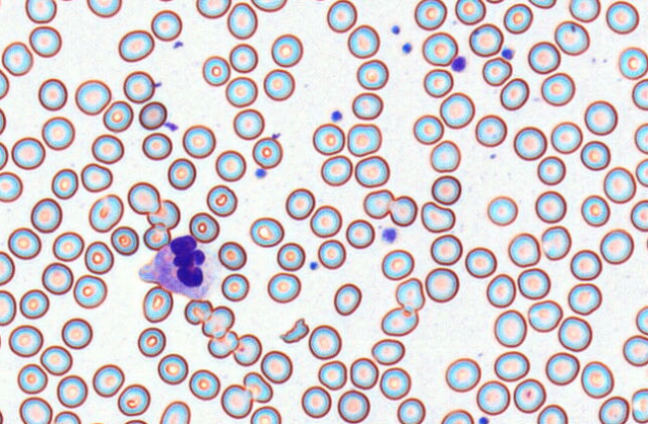GRAN: (136, 232, 216, 301)
PLT: (379, 227, 399, 243), (450, 57, 465, 74), (401, 41, 414, 55), (500, 48, 514, 61), (390, 23, 403, 35), (330, 111, 343, 121), (255, 168, 266, 179), (309, 262, 321, 272)
RBC: (88, 193, 124, 232), (74, 79, 111, 115), (439, 91, 475, 128), (421, 31, 458, 66), (444, 357, 481, 392), (493, 309, 527, 347), (580, 360, 614, 398), (554, 20, 590, 55), (557, 315, 592, 351), (599, 228, 634, 264), (468, 22, 503, 57), (424, 267, 459, 302), (584, 99, 618, 135), (117, 29, 154, 62), (603, 166, 636, 203), (346, 122, 381, 156), (476, 380, 510, 415), (540, 72, 575, 106), (142, 285, 173, 323), (380, 305, 418, 336), (73, 274, 107, 308), (513, 126, 547, 160), (41, 116, 75, 150), (182, 124, 216, 158), (545, 351, 579, 385), (605, 0, 639, 34), (220, 383, 253, 418), (308, 324, 341, 359), (8, 324, 43, 357), (513, 378, 546, 413), (527, 299, 562, 332), (567, 282, 602, 315), (507, 232, 540, 267), (30, 197, 62, 233), (354, 155, 390, 187), (226, 2, 257, 39), (11, 136, 45, 169), (337, 389, 370, 423), (527, 40, 560, 74), (270, 33, 303, 67), (347, 24, 380, 58), (1, 41, 33, 76), (493, 350, 529, 381), (201, 305, 234, 338), (127, 181, 160, 214), (309, 204, 342, 237), (117, 383, 150, 416), (122, 70, 155, 103), (312, 122, 345, 155), (474, 114, 507, 147), (92, 363, 124, 397), (7, 227, 41, 259), (56, 374, 88, 408), (379, 366, 411, 400), (249, 216, 284, 247), (420, 201, 455, 232), (540, 225, 571, 260), (147, 198, 180, 230), (381, 248, 414, 280), (41, 261, 73, 294), (260, 350, 292, 383), (28, 25, 61, 57), (517, 267, 550, 299), (263, 68, 295, 101), (550, 121, 582, 154), (429, 233, 462, 265), (464, 246, 497, 278), (534, 190, 566, 223), (267, 272, 301, 303), (485, 273, 516, 307), (188, 368, 220, 400), (150, 9, 182, 41), (320, 154, 352, 186), (232, 108, 264, 140), (39, 344, 72, 375), (251, 136, 282, 169), (206, 184, 237, 217), (300, 385, 331, 418), (91, 133, 124, 164), (429, 139, 460, 172), (84, 240, 114, 274), (413, 0, 447, 30), (356, 59, 388, 90), (242, 371, 273, 403), (362, 188, 394, 219), (188, 211, 219, 243), (157, 353, 188, 385), (61, 317, 92, 349), (102, 100, 133, 132), (215, 149, 246, 181), (412, 114, 444, 145), (225, 76, 257, 107), (486, 195, 518, 226), (326, 0, 357, 32), (570, 249, 602, 280), (232, 333, 262, 366), (285, 187, 315, 220), (395, 277, 425, 310), (499, 77, 529, 110), (80, 162, 112, 192), (52, 231, 84, 261), (580, 194, 610, 226), (167, 157, 196, 190), (38, 78, 67, 111), (618, 46, 647, 79), (17, 363, 47, 394), (19, 288, 49, 319), (481, 56, 512, 86), (431, 174, 461, 205), (503, 3, 533, 34), (349, 357, 378, 389), (388, 194, 417, 226), (351, 91, 383, 120), (333, 282, 361, 315), (18, 396, 52, 423), (371, 338, 405, 365), (317, 360, 347, 390), (345, 218, 375, 248), (536, 155, 566, 185), (580, 140, 610, 170), (137, 326, 166, 357), (138, 100, 167, 130), (423, 68, 453, 97), (110, 225, 139, 255), (217, 240, 246, 270), (317, 239, 346, 269), (229, 43, 258, 73), (141, 132, 172, 160), (202, 55, 230, 86), (598, 395, 629, 423), (220, 272, 249, 301), (276, 242, 305, 271), (51, 168, 78, 199), (622, 334, 647, 366), (183, 298, 212, 325), (454, 0, 485, 25), (142, 223, 170, 250), (396, 397, 425, 423), (0, 171, 23, 202), (159, 400, 190, 423), (25, 0, 56, 23), (569, 0, 600, 22), (86, 0, 122, 18), (536, 403, 568, 423), (195, 0, 230, 18), (0, 289, 16, 325), (631, 388, 647, 423), (250, 405, 281, 423), (630, 199, 647, 231), (0, 250, 15, 285), (631, 78, 647, 110), (440, 408, 473, 423), (250, 0, 287, 12), (634, 122, 647, 154), (53, 410, 81, 423), (635, 305, 647, 335), (635, 158, 647, 187), (0, 69, 9, 99), (528, 0, 556, 9), (0, 141, 8, 169), (0, 107, 6, 134), (123, 418, 148, 423), (477, 416, 489, 423), (485, 0, 504, 4), (87, 421, 106, 424), (155, 0, 177, 2), (55, 0, 80, 1)
Schistocyte: (207, 333, 239, 360), (277, 318, 310, 344)
